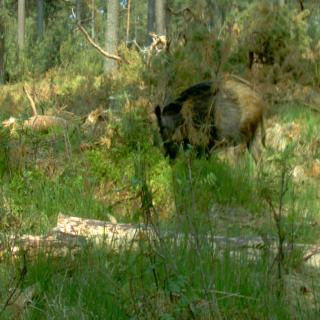Pig: (142, 68, 274, 180)
